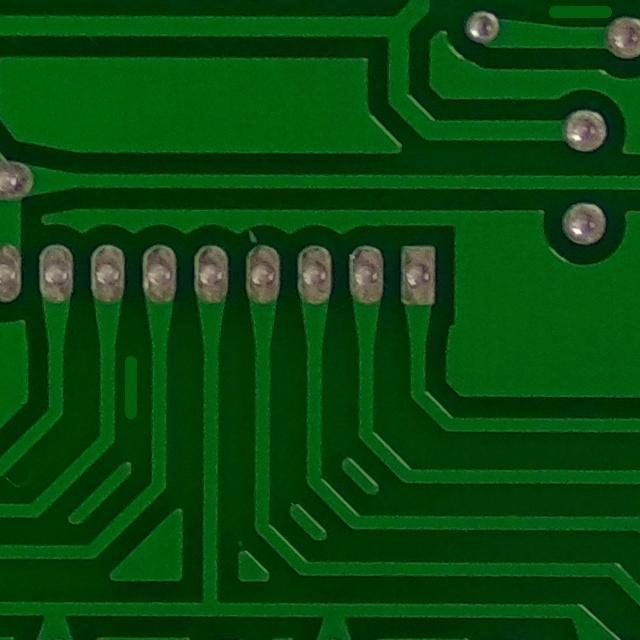spurious_copper: (104, 335, 160, 430), (531, 0, 627, 41)
